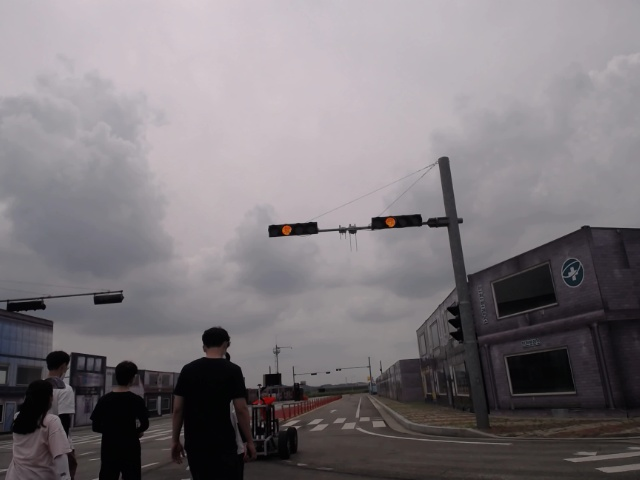orange_4: (368, 214, 425, 231), (267, 222, 321, 238)
